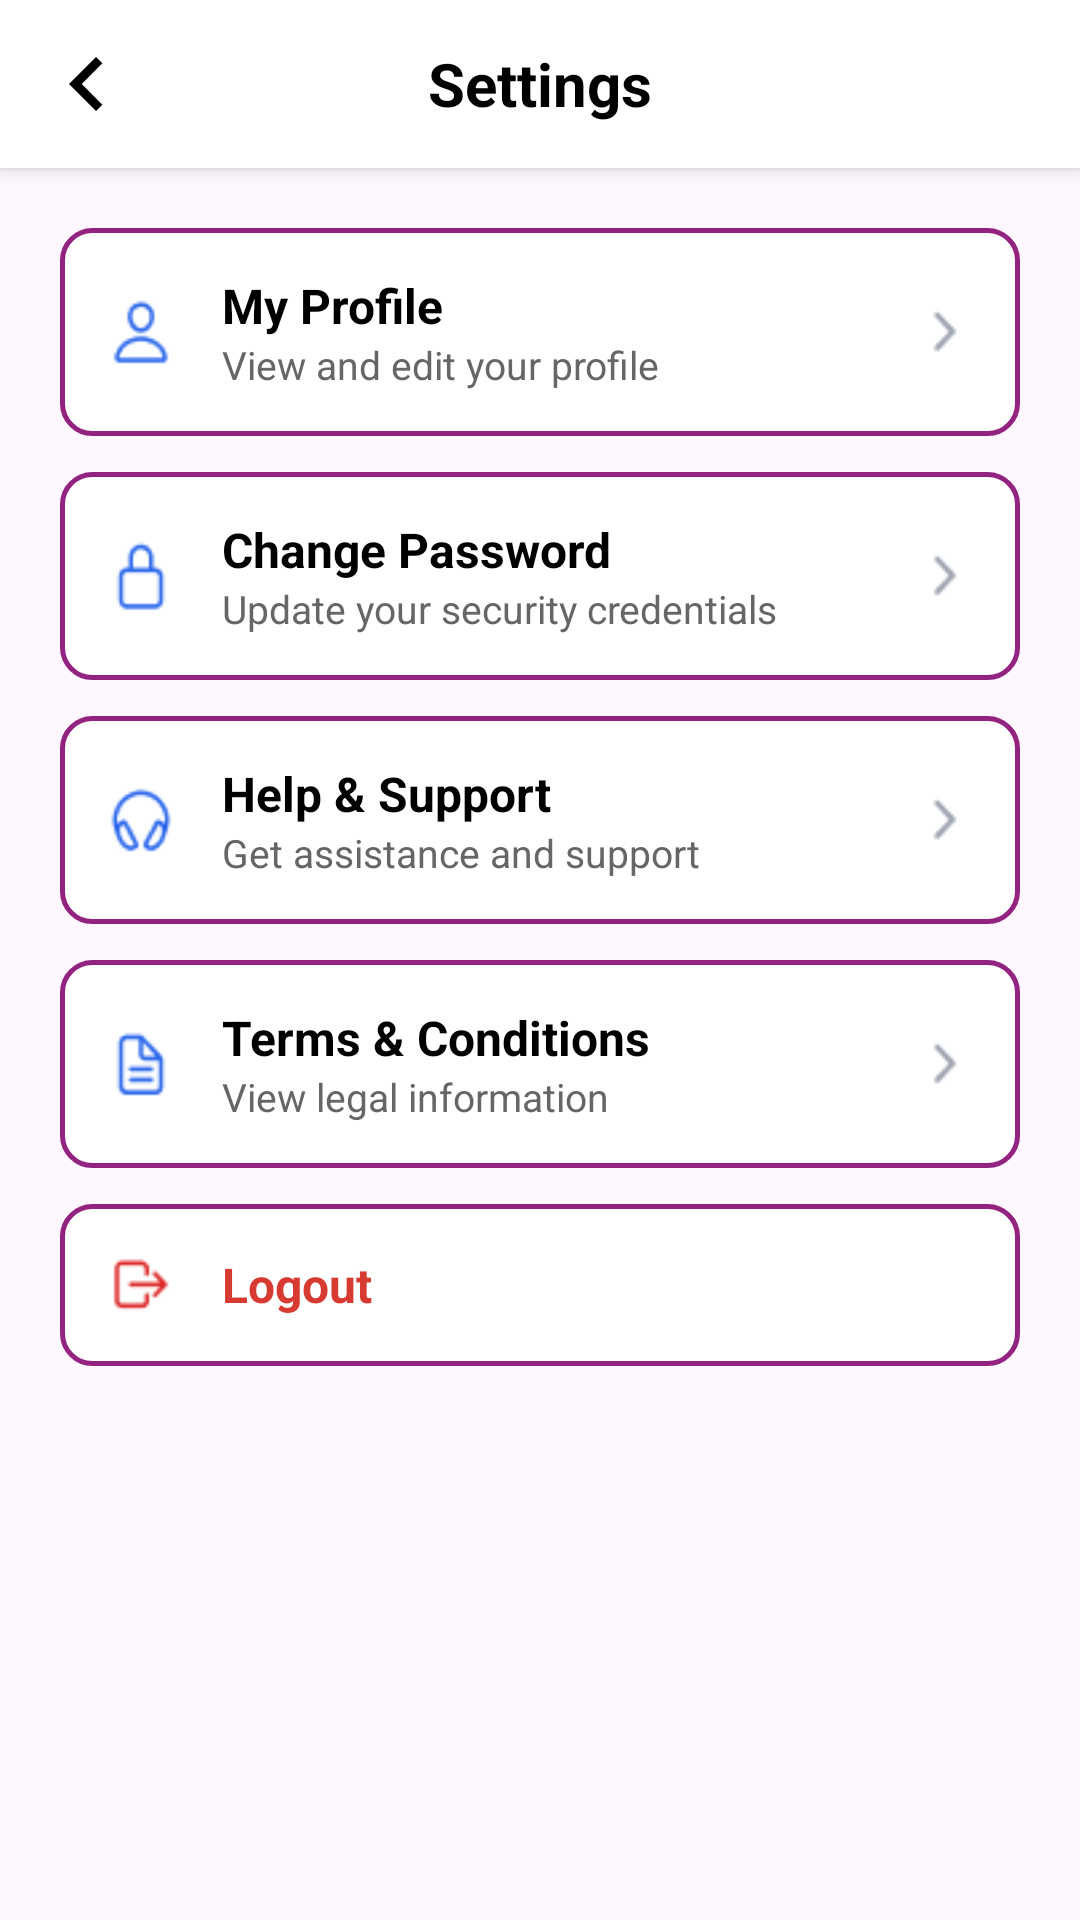

Where icons sit on this 1080w x 1920h app screen, as (x1, y1, x2, y2):
Back: (69, 57, 103, 111)
Next: (934, 312, 956, 351), (934, 556, 956, 595), (934, 800, 956, 839), (934, 1044, 956, 1083)
